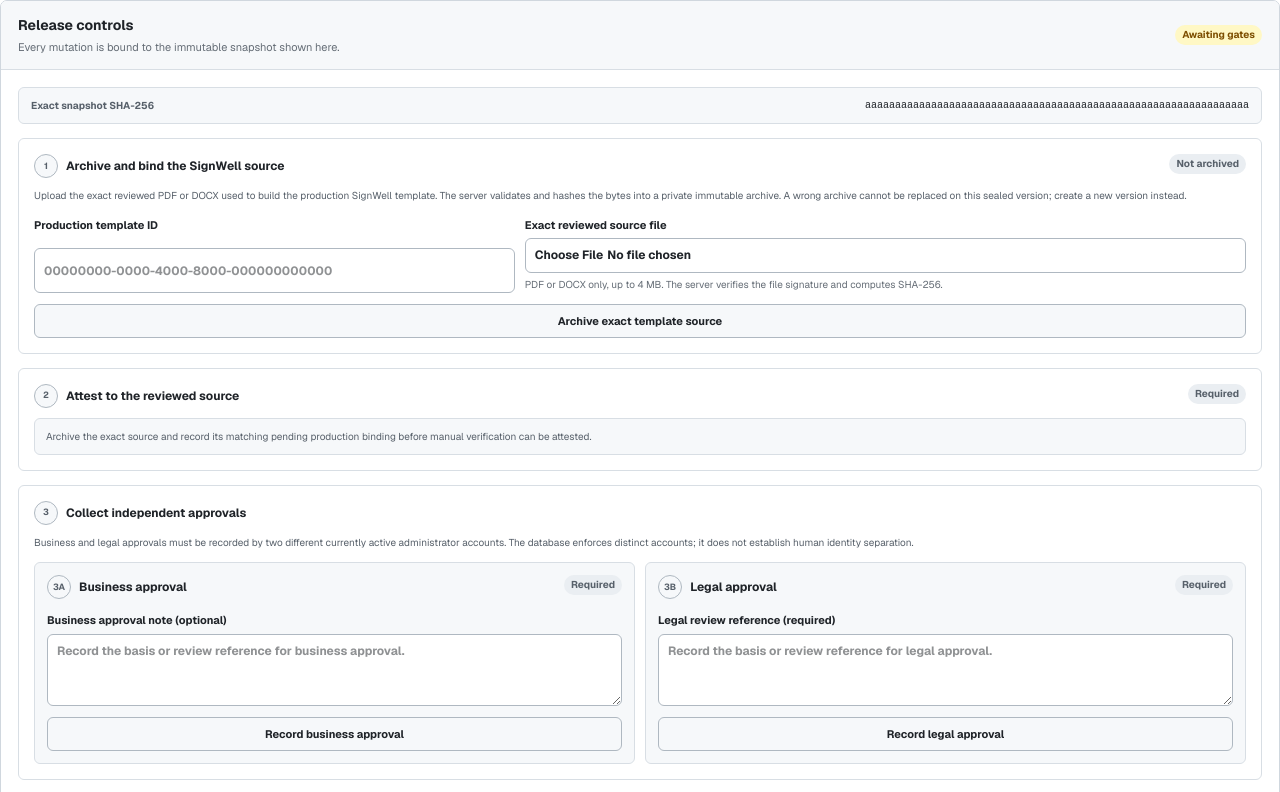
Test: admin deal release controls › fails closed when a successful response does not match the loaded snapshot
Click the button "Record business approval" at (334, 734), box [47,717,622,751]
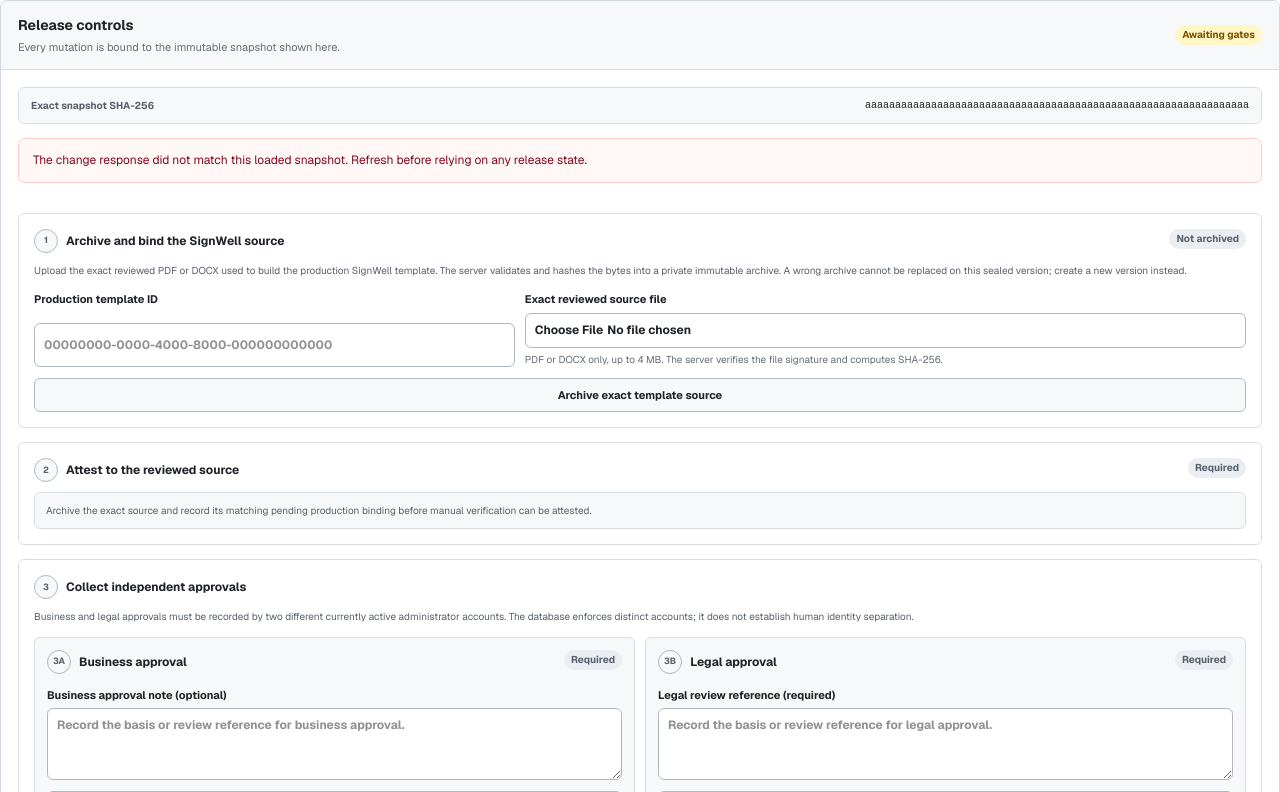
Expected: the message shows "did not match this loaded snapshot", [33,152,587,168]
